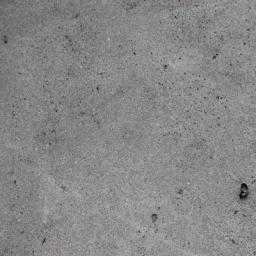FOD: (239, 183, 252, 202)
